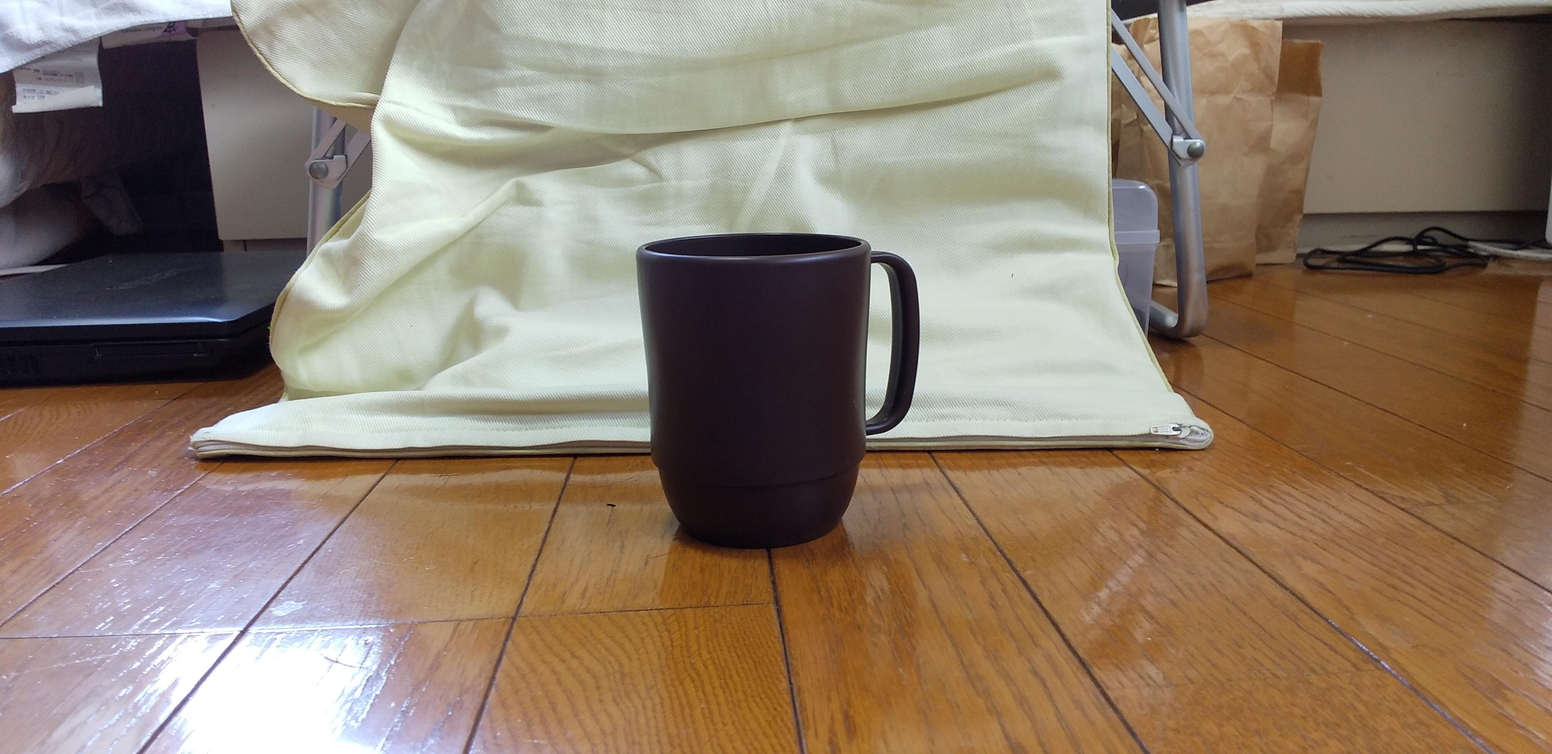mug-real100-3d100: (637, 233, 920, 548)
